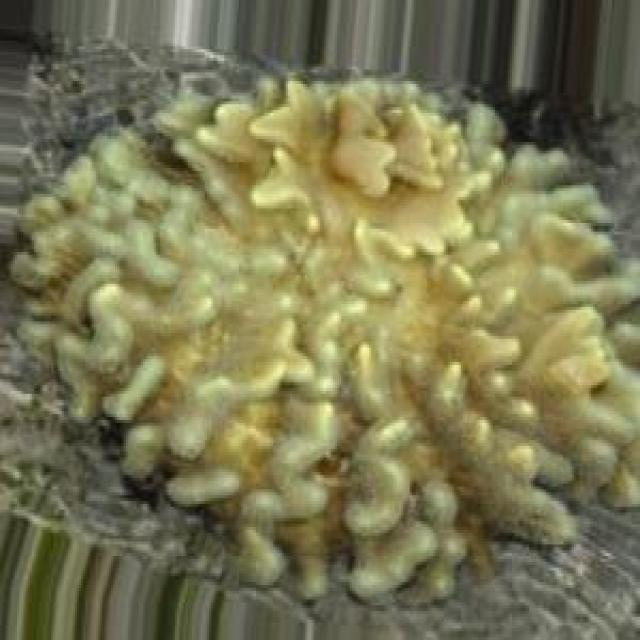Healthy: (12, 79, 640, 603)
